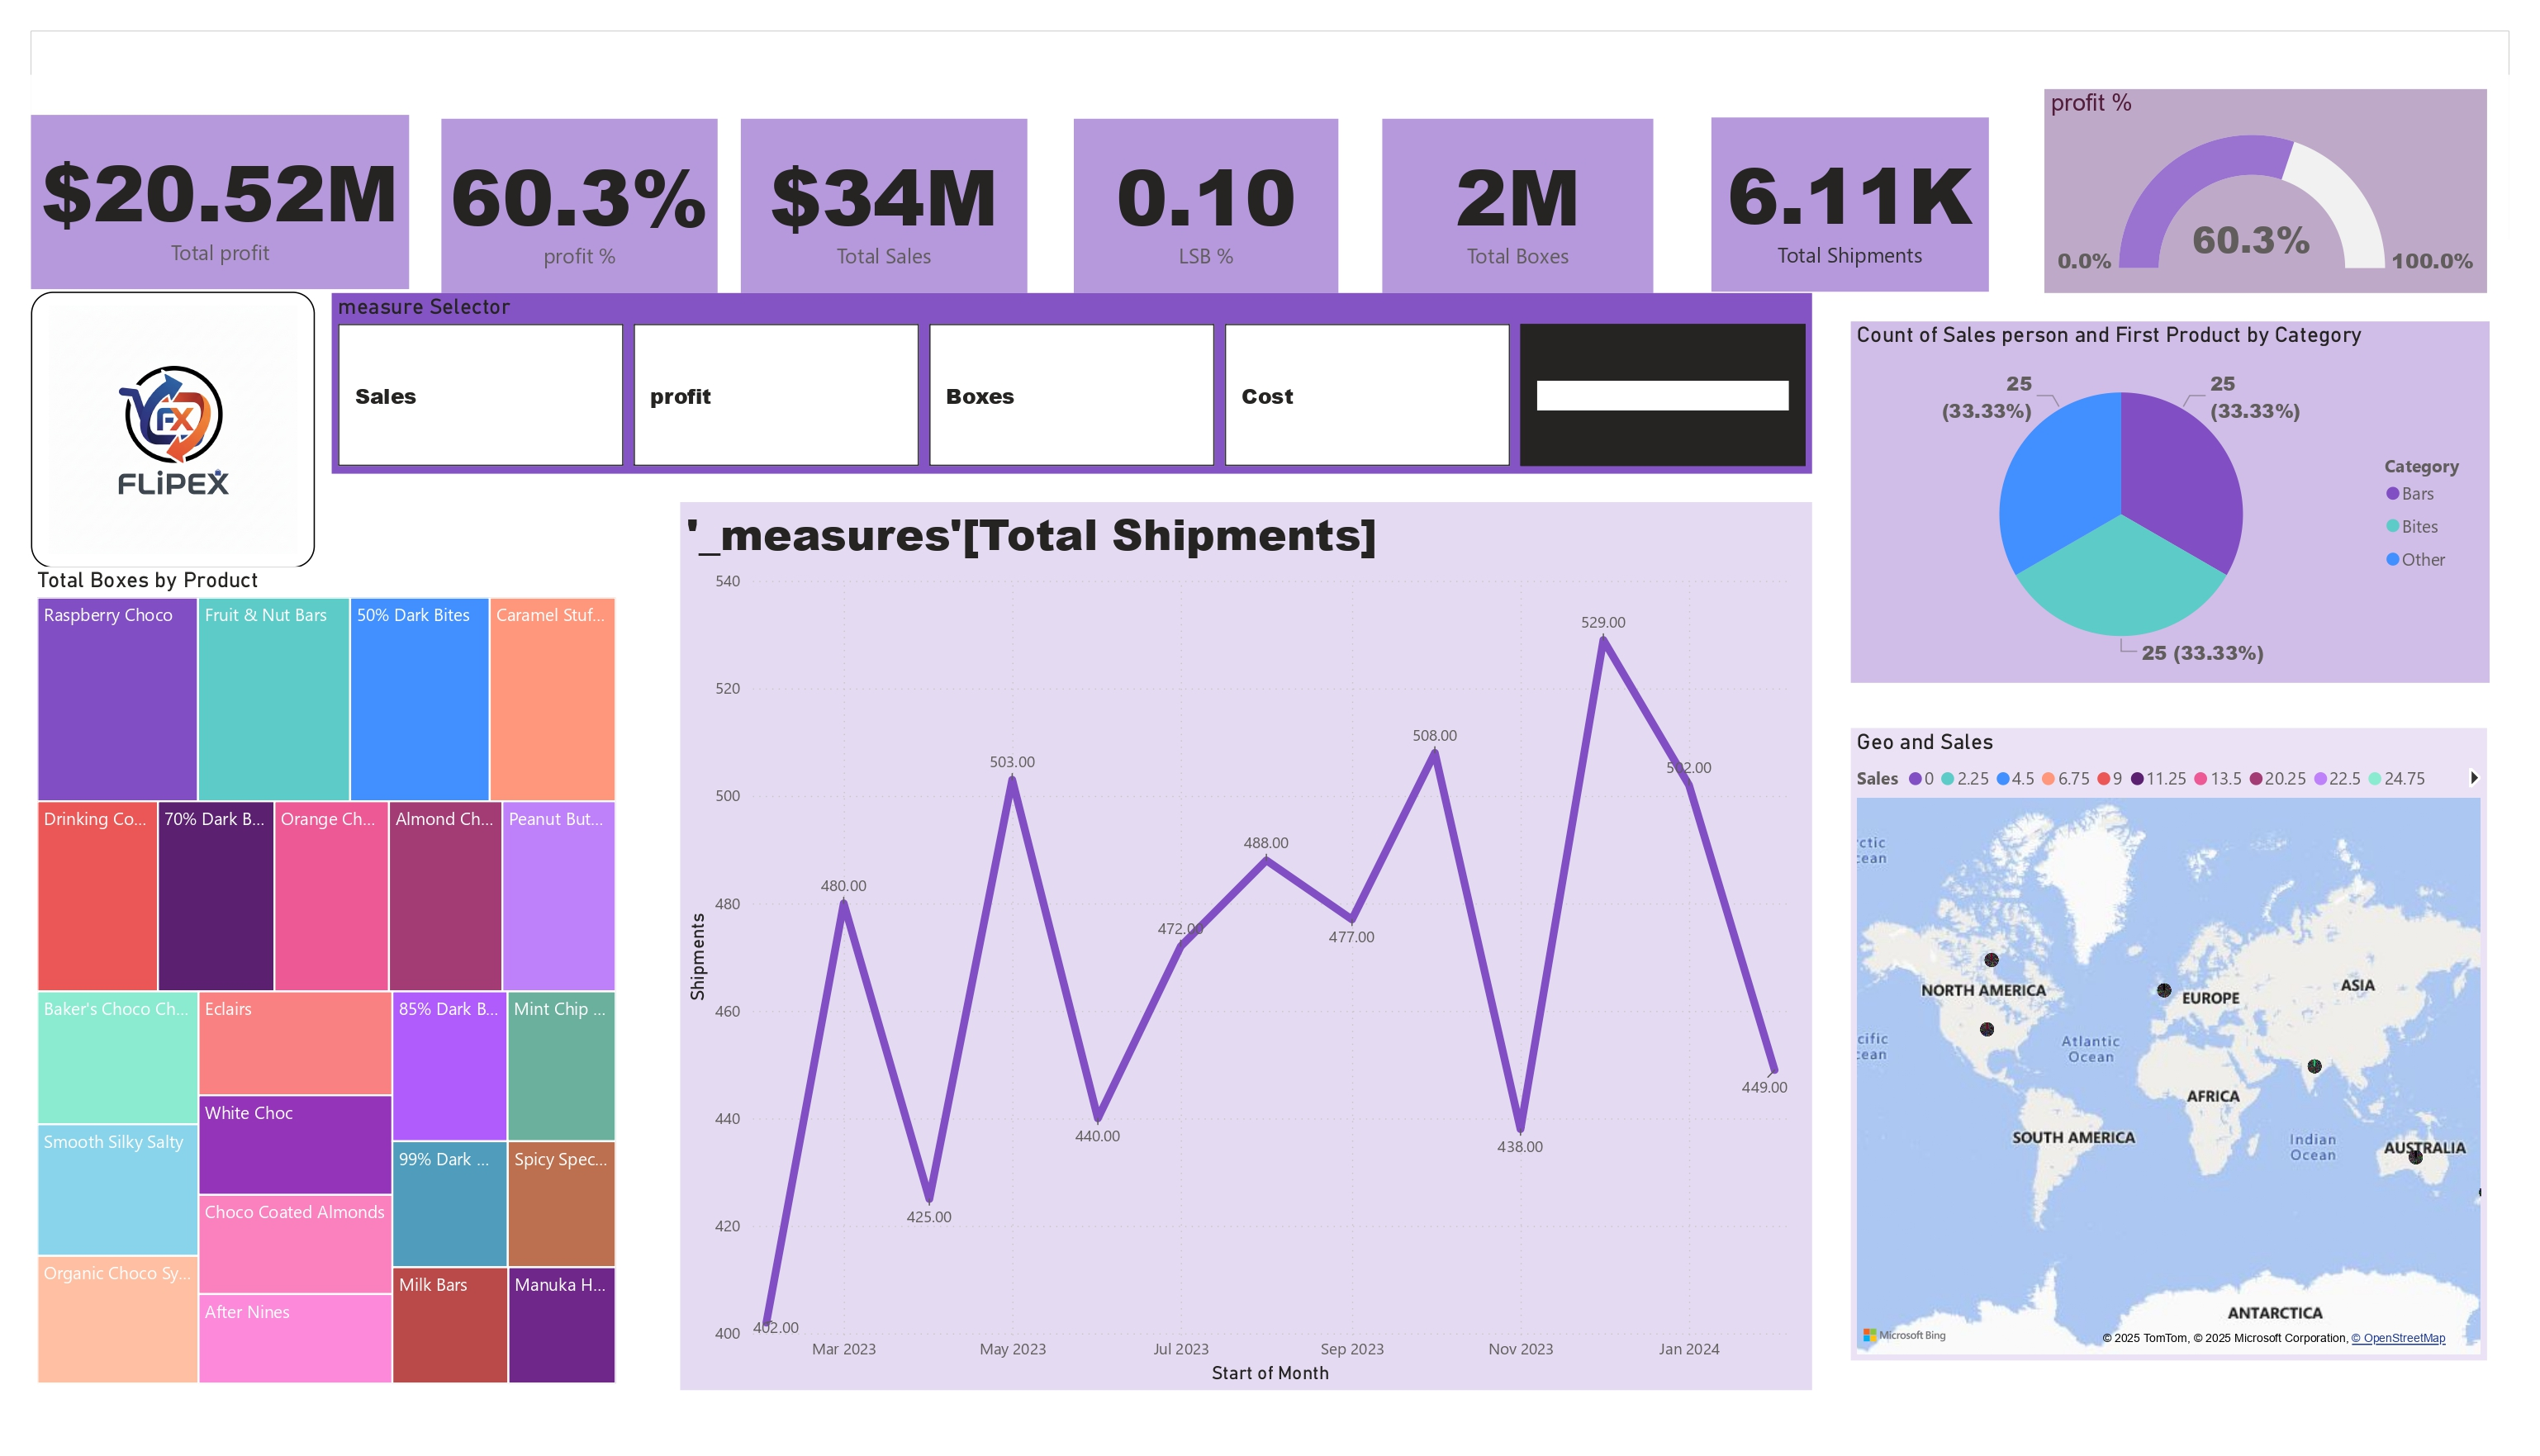

This screenshot's page, from the dashboard's own definition file:
{"tool":"powerbi","page":{"name":"sales","canvas":[1920,1080],"ordinal":1},"visuals":[{"type":"card","fields":{"Values":["_measures.Total profit"]},"box":[0,65,293.3,135],"z":0},{"type":"card","fields":{"Values":["_measures.Total Sales"]},"box":[550,68.3,221.7,135],"z":1000},{"type":"card","fields":{"Values":["_measures.LSB %"]},"box":[808.3,68.3,205,135],"z":2000},{"type":"card","fields":{"Values":["_measures.Total Boxes"]},"box":[1046.7,68.3,210,135],"z":3000},{"type":"card","fields":{"Values":["_measures.profit %"]},"box":[318.3,68.3,213.3,135],"z":4000},{"type":"card","fields":{"Values":["_measures.Total Shipments"]},"box":[1301.7,66.7,215,135],"z":5000},{"type":"gauge","fields":{"Y":["_measures.profit %"]},"box":[1560,45,342.5,157.5],"z":6000},{"type":"image","box":[67.9,179.1,156.4,191.4],"z":7000},{"type":"lineChart","fields":{"Y":["_measures.Total Boxes"],"Category":["calendar.Start of Month"]},"box":[502.5,365,877.5,687.5],"z":8000},{"type":"advancedSlicerVisual","fields":{"Values":["measure Selector.measure Selector"]},"box":[234.6,203.8,1146.5,140],"z":9000},{"type":"pieChart","fields":{"Category":["products.Category"],"Y":["CountNonNull(people.Sales person)"]},"box":[1410,225,495,280],"z":10000},{"type":"map","fields":{"Series":["shipments.Sales"],"Category":["locations.Geo"]},"box":[1410,540,492.5,490],"z":11000},{"type":"treemap","fields":{"Group":["products.Product"],"Values":["_measures.Total Boxes"]},"box":[20.6,364.3,456.9,636],"z":12000}]}

Visuals, with their boxes in screenshot pixels (x1, y1, x2, y2):
card - _measures.Total profit: bbox=[31, 115, 410, 289]
card - _measures.Total Sales: bbox=[741, 119, 1027, 293]
card - _measures.LSB %: bbox=[1074, 119, 1339, 293]
card - _measures.Total Boxes: bbox=[1382, 119, 1653, 293]
card - _measures.profit %: bbox=[442, 119, 717, 293]
card - _measures.Total Shipments: bbox=[1711, 117, 1988, 292]
gauge - _measures.profit %: bbox=[2044, 89, 2486, 292]
image: bbox=[119, 262, 320, 510]
lineChart - _measures.Total Boxes x calendar.Start of Month: bbox=[680, 502, 1812, 1390]
advancedSlicerVisual - measure Selector.measure Selector: bbox=[334, 294, 1813, 475]
pieChart - products.Category x CountNonNull(people.Sales person): bbox=[1851, 321, 2490, 683]
map - shipments.Sales x locations.Geo: bbox=[1851, 728, 2486, 1360]
treemap - products.Product x _measures.Total Boxes: bbox=[58, 501, 648, 1322]
